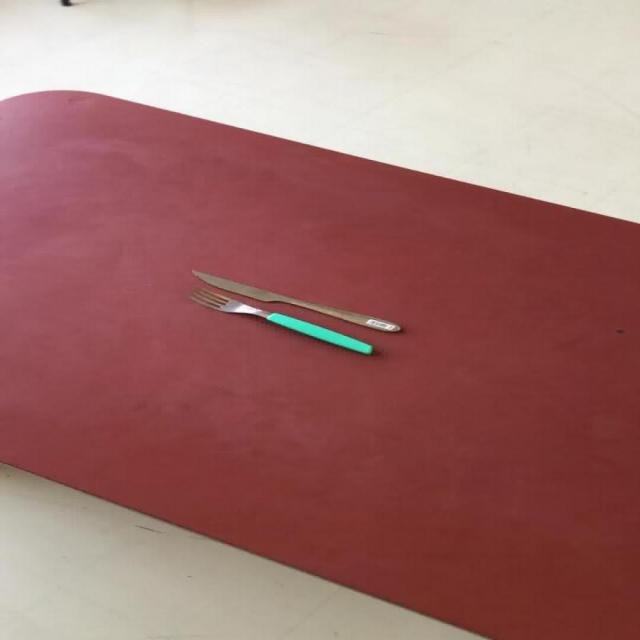Fork: (188, 285, 373, 355)
Knife: (188, 268, 400, 333)
